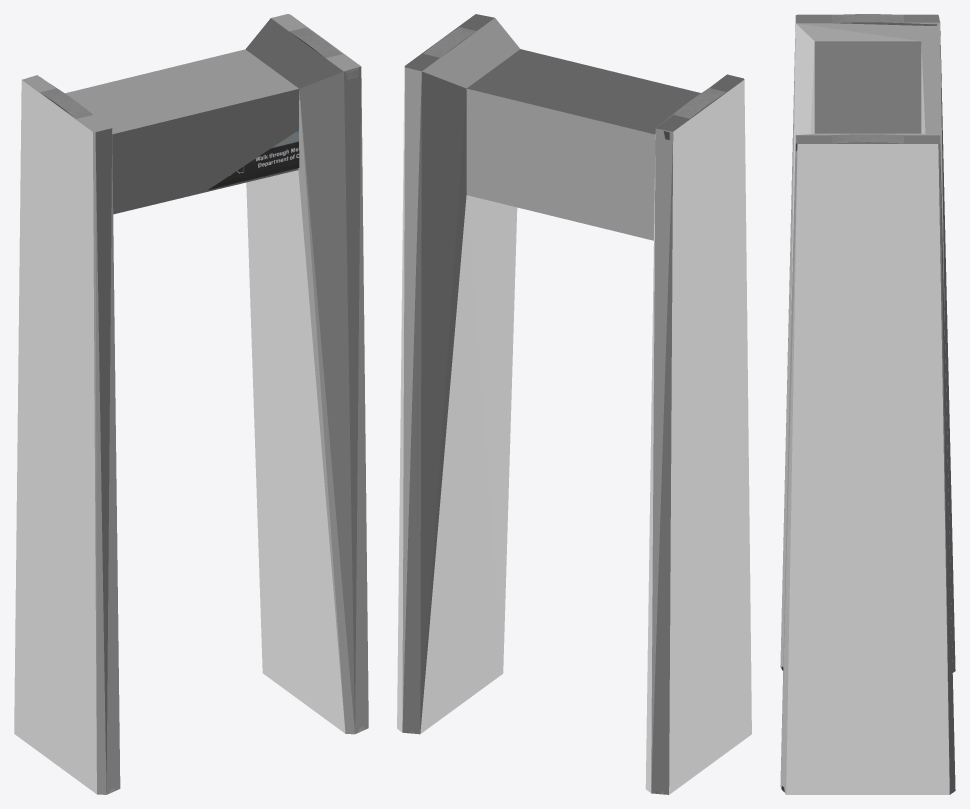
File: SM_Metaldetector.fbx
3 renders of one model, left to right at view 1: azimuth 30°, elevation 25°; view 2: azimuth 150°, elevation 25°; view 3: azimuth 270°, elevation 25°, orthographic.
Visible parts, largest first — view 1: SM_Metaldetector_ConvexHulls, SM_Metaldetector; view 2: SM_Metaldetector_ConvexHulls, SM_Metaldetector; view 3: SM_Metaldetector_ConvexHulls, SM_Metaldetector.
Part boxes in pixels (left/top/right/bottom): SM_Metaldetector_ConvexHulls: left=14, top=14, right=368, bottom=794; SM_Metaldetector: left=40, top=27, right=365, bottom=792; SM_Metaldetector_ConvexHulls: left=397, top=14, right=751, bottom=794; SM_Metaldetector: left=406, top=27, right=725, bottom=793; SM_Metaldetector_ConvexHulls: left=780, top=14, right=955, bottom=794; SM_Metaldetector: left=781, top=14, right=939, bottom=791.
Size of the model in its own units: 109 by 61.66 by 253.
2 materials, 1 textured.
